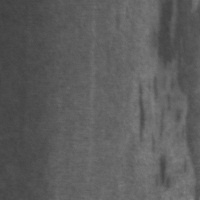inclusion: (155, 0, 199, 199), (135, 77, 174, 145), (159, 152, 190, 191)
